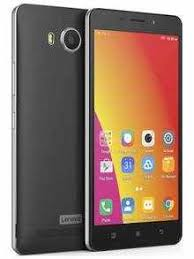lenovo: (10, 1, 183, 255), (84, 3, 185, 257)
